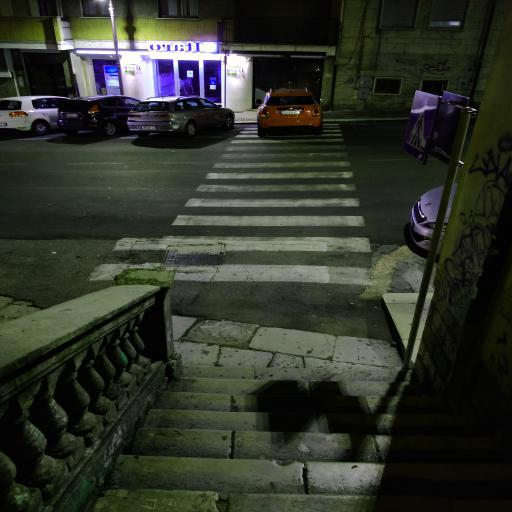crosswalk: (164, 196, 368, 232), (208, 152, 354, 172)
